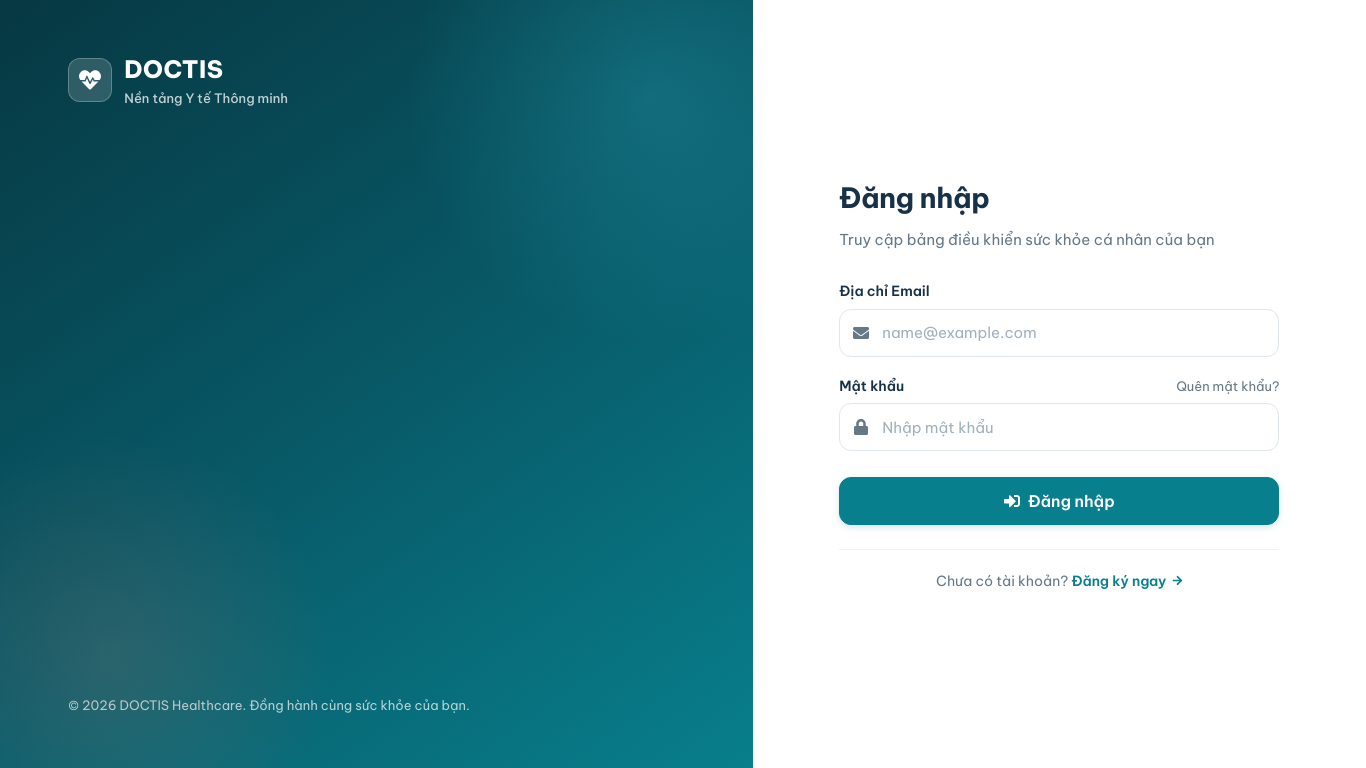
Test case: API rejection does not create a welcome or navigate
Type "Fixture@example.test" into the field labelled "Địa chỉ Email". click: [1059, 333]
box: [839,309,1279,357]
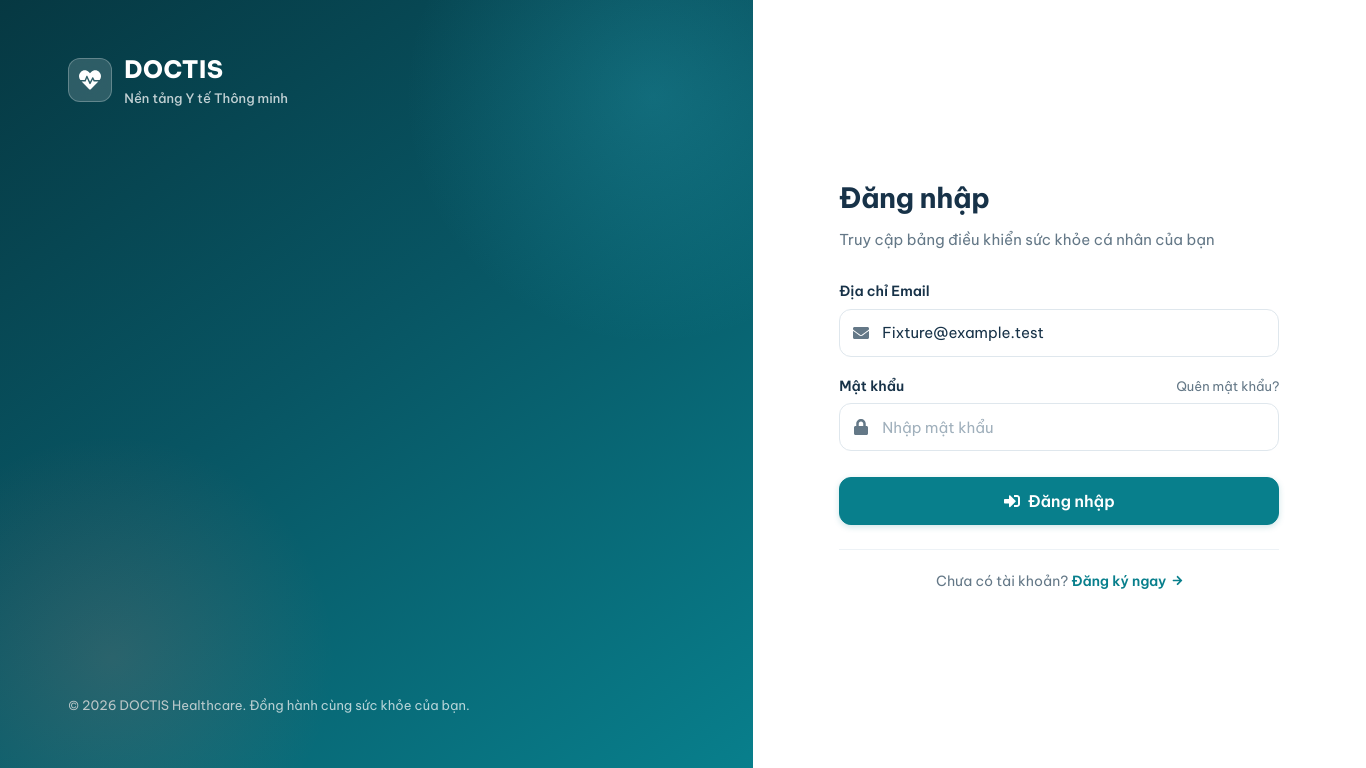
Type "test-only-password" into the password field with id "login-password". click: [1059, 427]
box: [839,403,1279,451]
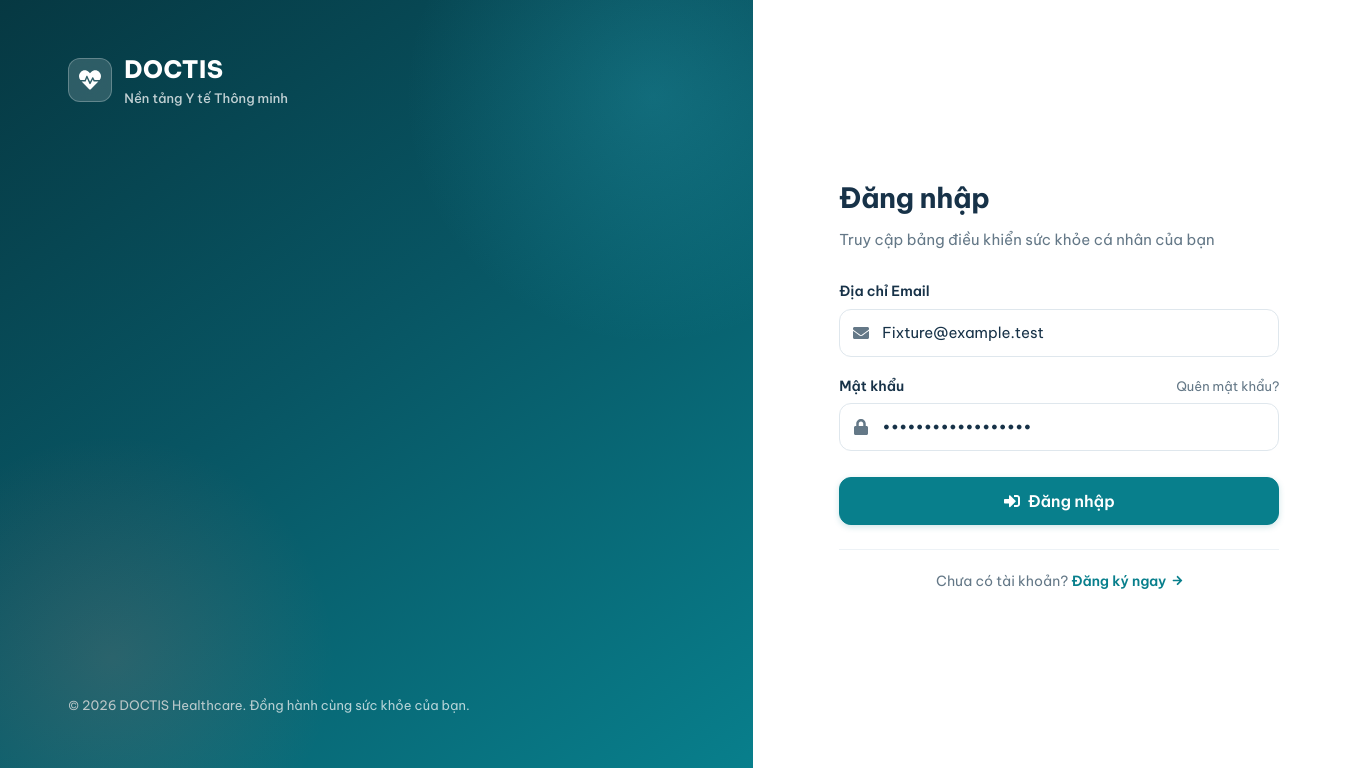
Submit the form, box [839,280,1279,525]
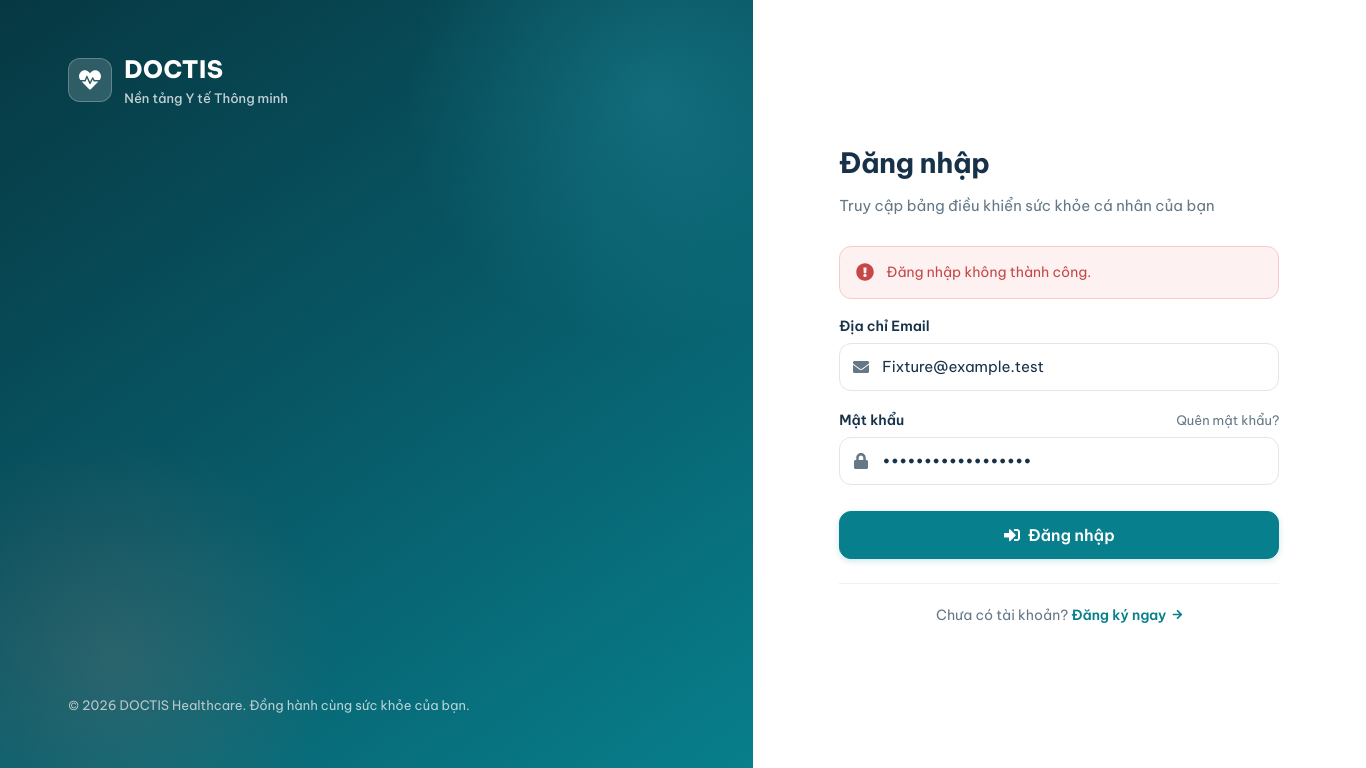
Check: the message "Đăng nhập không thành công." is shown, box [839,246,1279,298]
